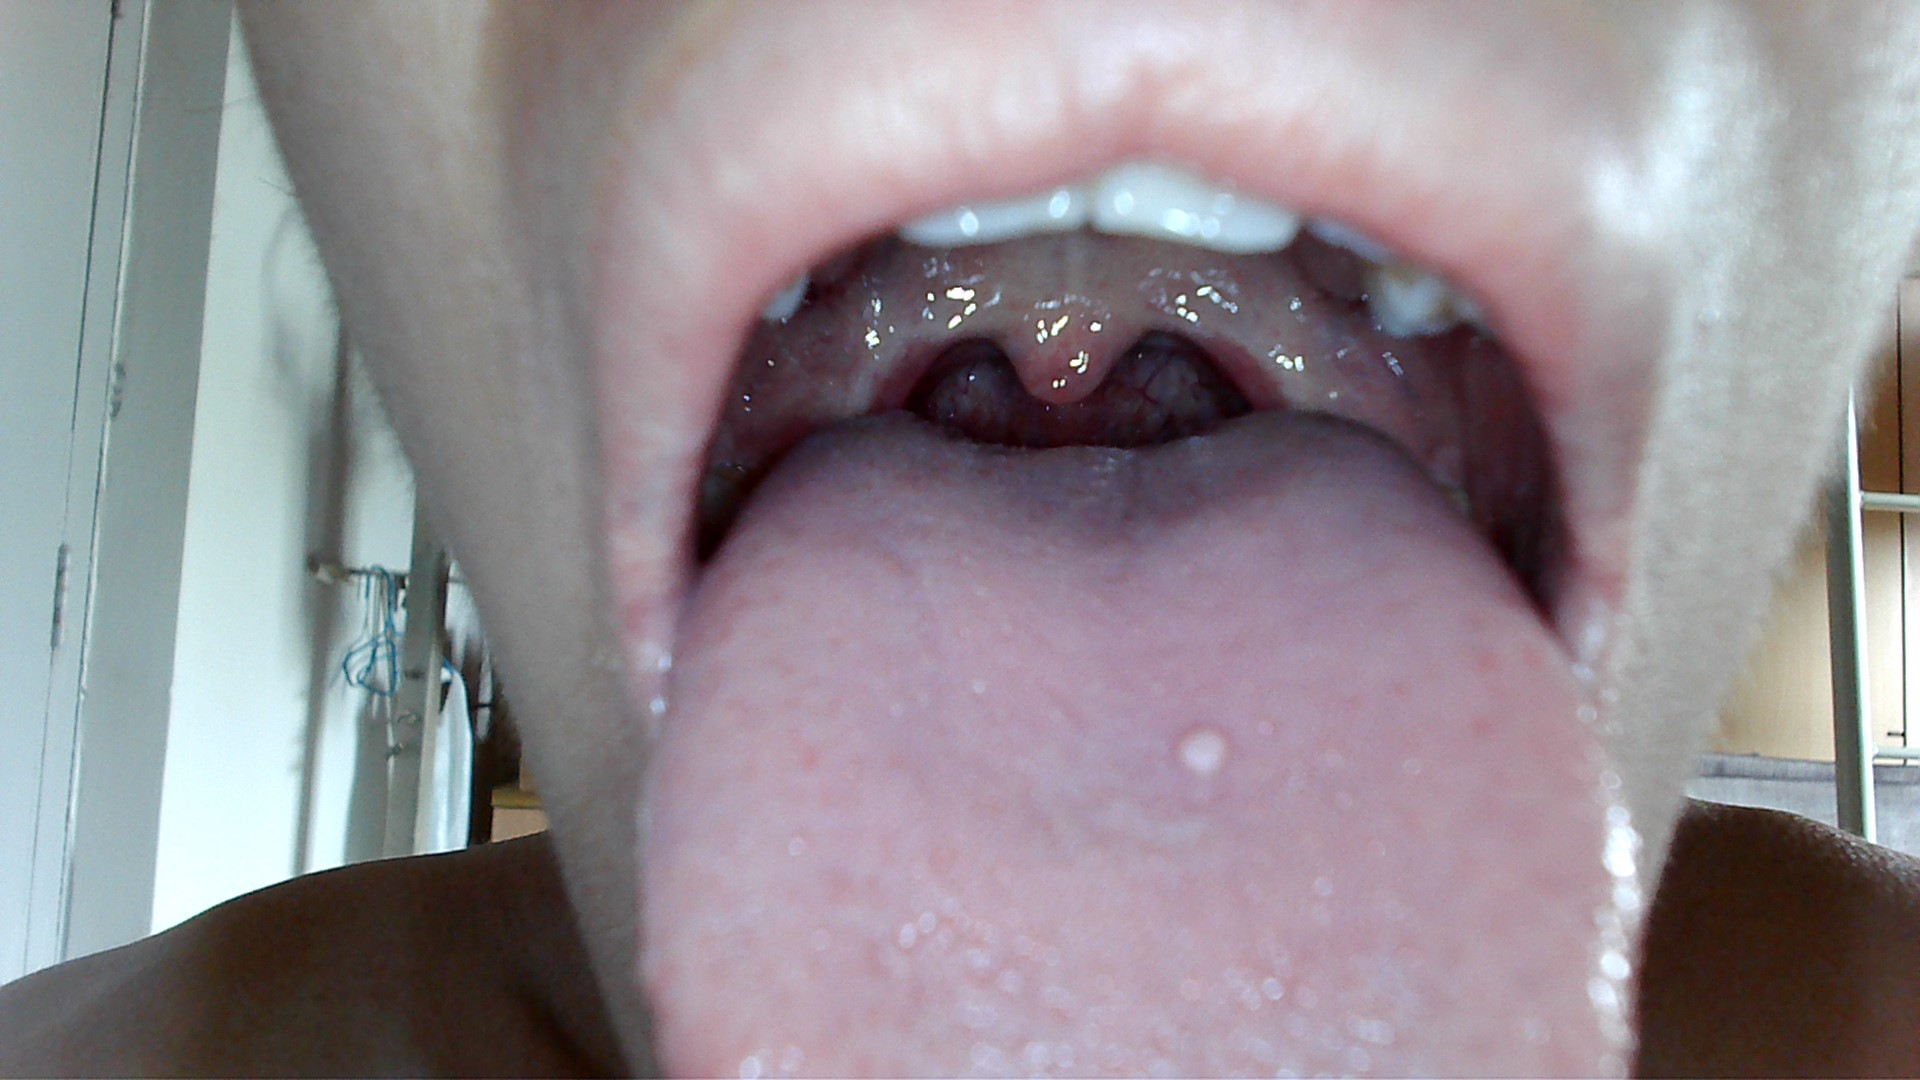throat: (1218, 313, 1362, 411), (770, 332, 934, 415)
